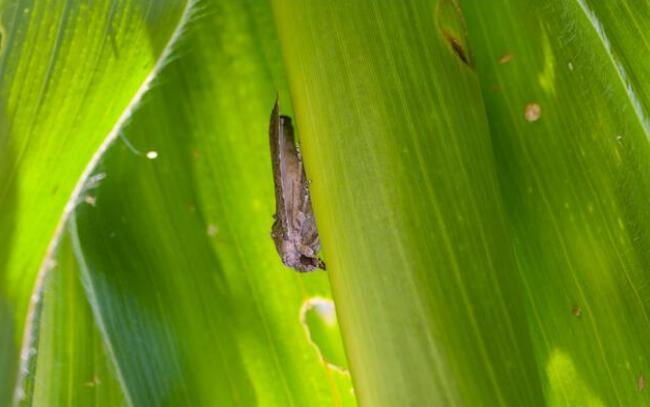army worm adult: (238, 82, 340, 298)
